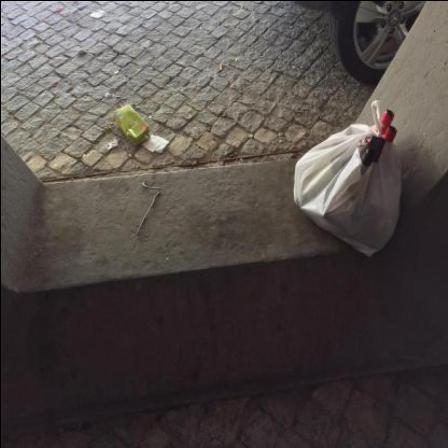Bottle: (381, 111, 395, 135), (361, 149, 376, 167), (382, 126, 397, 144)
Bottle cap: (247, 134, 253, 139), (188, 137, 193, 143), (278, 133, 284, 137), (114, 70, 119, 74), (126, 75, 130, 79), (234, 57, 238, 61)
Carton: (114, 104, 150, 146)
Other litter: (136, 180, 160, 235)
Paper: (142, 135, 170, 153), (107, 139, 119, 150), (77, 49, 88, 55)
Plastic bag - wrapper: (293, 100, 401, 257), (368, 137, 386, 163)
Unlabeled litter: (56, 9, 62, 13)
